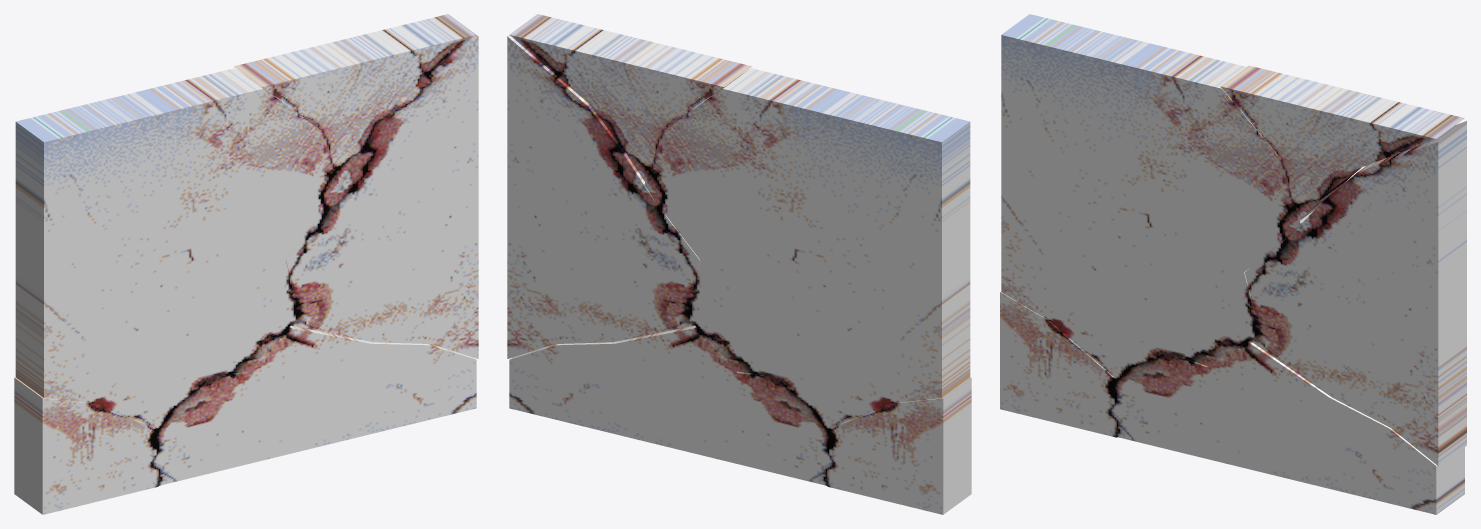
File: PAREDROTA.fbx
3 views of the same model, side by side, from view 1: azimuth 30°, elevation 25°; view 2: azimuth 150°, elevation 25°; view 3: azimuth 330°, elevation 25° (orthographic).
Parts seen in each view (by area): view 1: Cube.001, Cube.003, Cube.004, Cube.002, Cube; view 2: Cube.001, Cube.003, Cube.004, Cube.002, Cube; view 3: Cube.001, Cube.003, Cube.004, Cube.002, Cube.
Part boxes in pixels (<box>): Cube.001: <box>15,68,341,428</box>; Cube.003: <box>285,35,478,358</box>; Cube.004: <box>156,325,476,485</box>; Cube.002: <box>233,14,476,182</box>; Cube: <box>14,377,158,514</box>; Cube.001: <box>644,68,970,428</box>; Cube.003: <box>507,35,700,358</box>; Cube.004: <box>509,325,829,485</box>; Cube.002: <box>509,14,752,182</box>; Cube: <box>827,377,971,514</box>; Cube.001: <box>1001,14,1314,378</box>; Cube.003: <box>1245,121,1466,466</box>; Cube.004: <box>1115,338,1464,514</box>; Cube.002: <box>1220,65,1464,220</box>; Cube: <box>1000,291,1116,437</box>.
Size of the model in its own units: 626 by 514 by 70.62.
